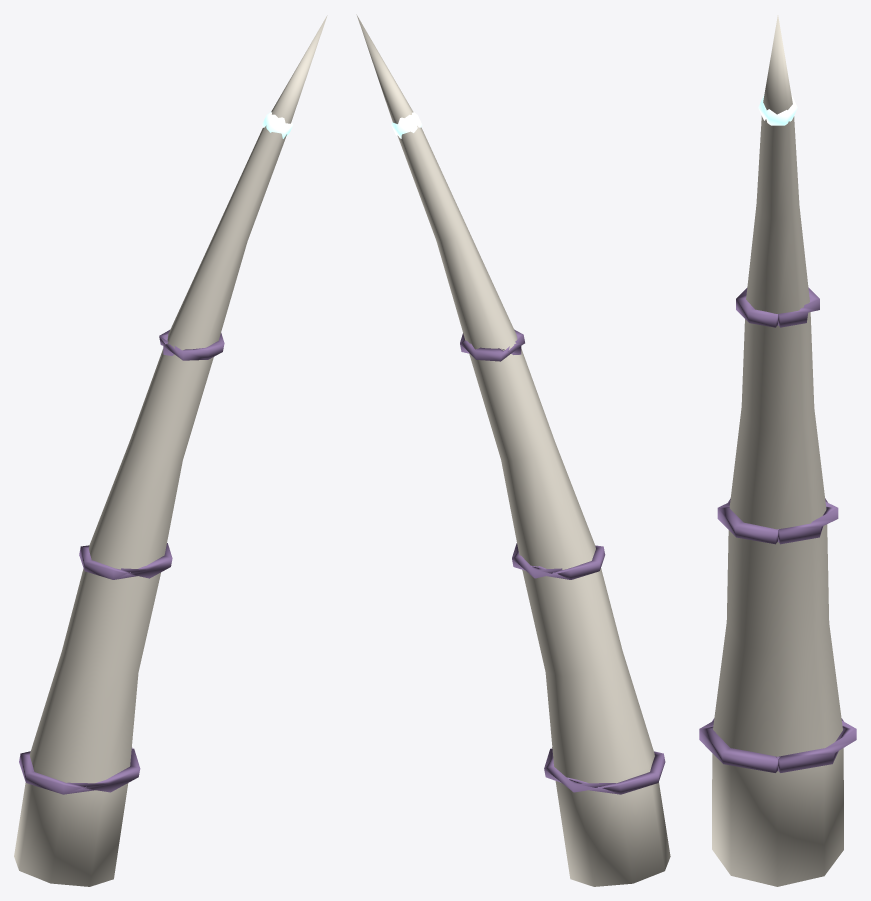
File: horn.glb
3 views of the same model, side by side, from view 1: azimuth 30°, elevation 25°; view 2: azimuth 150°, elevation 25°; view 3: azimuth 270°, elevation 25° (orthographic). The views are drawn at different scales.
Parts seen in each view (by area): view 1: horn; view 2: horn; view 3: horn, tip.
Part boxes in pixels (x1=…): horn: x1=14, y1=15, x2=327, y2=886; horn: x1=356, y1=14, x2=670, y2=886; horn: x1=699, y1=15, x2=856, y2=886; tip: x1=758, y1=95, x2=797, y2=125.
Size of what is drawn, in the model's own units: 0.4092 by 1.01 by 0.1425.
